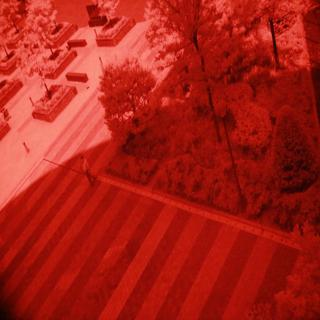person: (74, 148, 95, 188)
